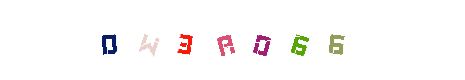3: (183, 0, 263, 80)
6: (259, 0, 339, 80), (292, 0, 372, 80)
A: (192, 0, 272, 80)
D: (69, 0, 149, 80)
O: (222, 0, 302, 80)
W: (146, 0, 226, 80)
